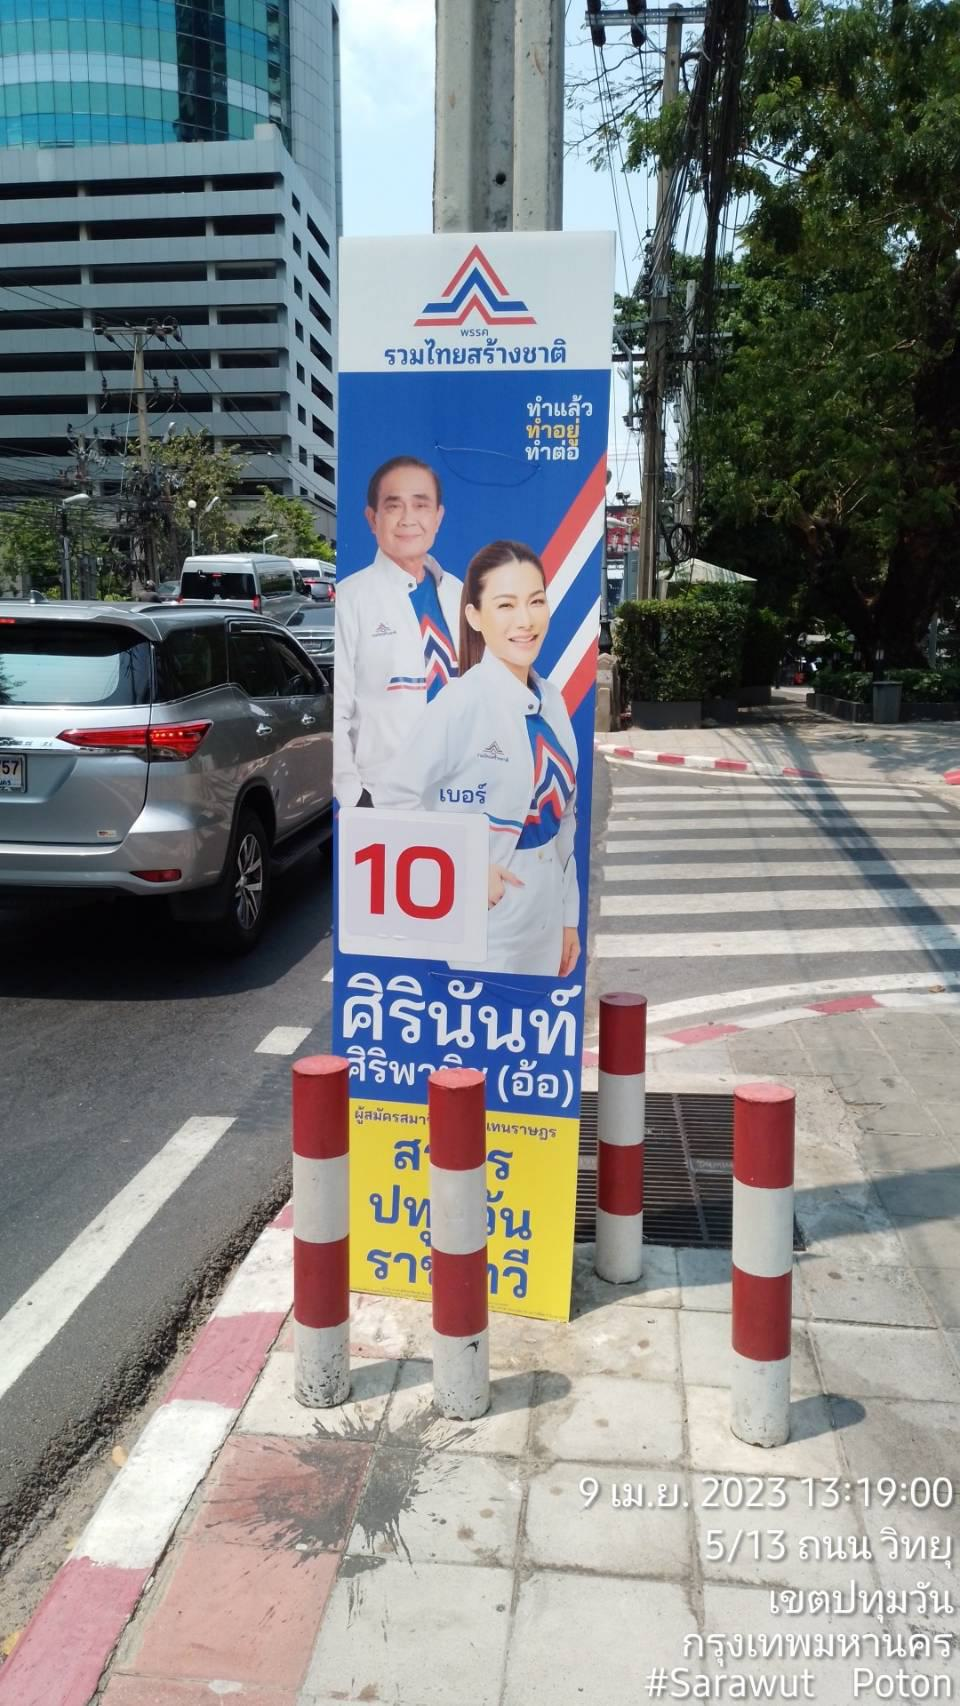Banner: (297, 219, 624, 1313)
